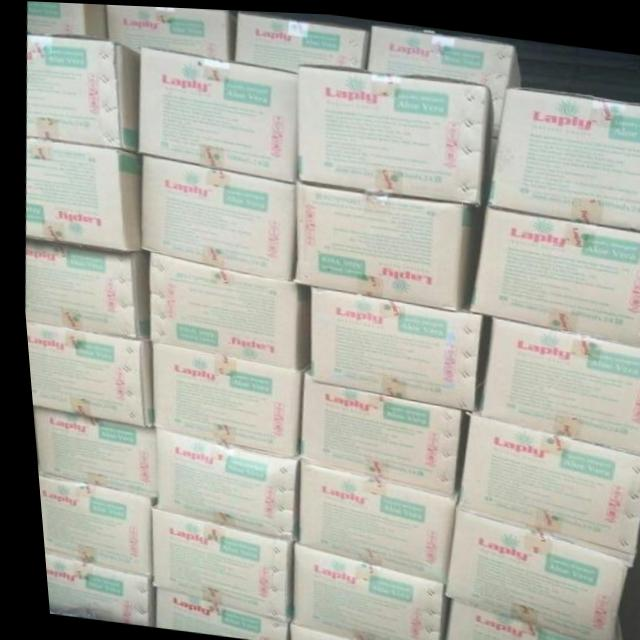box: (433, 499, 627, 640), (295, 62, 490, 201), (448, 409, 640, 547), (465, 203, 640, 341), (472, 313, 640, 448), (484, 82, 640, 225), (134, 43, 294, 181), (304, 282, 477, 409), (288, 181, 462, 307), (290, 370, 456, 491), (135, 153, 291, 277), (288, 460, 449, 580), (144, 340, 295, 456), (367, 21, 524, 132), (144, 250, 290, 369), (142, 507, 284, 622), (146, 427, 289, 539), (280, 542, 436, 640), (24, 32, 136, 151), (21, 322, 147, 427), (21, 137, 136, 251), (20, 238, 144, 338), (30, 466, 142, 575), (26, 406, 148, 496), (35, 549, 142, 626), (231, 9, 366, 69), (105, 4, 235, 59), (142, 588, 278, 640), (435, 597, 584, 640), (27, 1, 108, 39)
